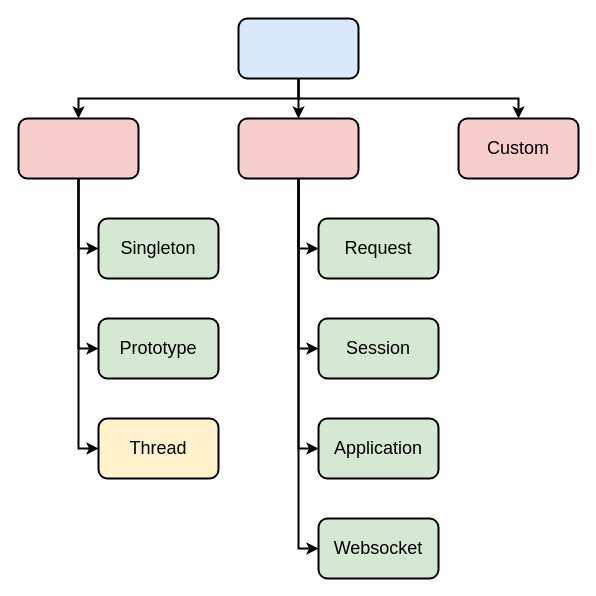
Some shapes in this 596 by 596 pixel diagram are drawn without their labels. The centre of each missing label's shape, as x and y in pixels:
"Bean Scopes" belongs at pixel 298 48.
"Common ApplicationContext" belongs at pixel 78 148.
"Web WebApplicationContext" belongs at pixel 298 148.
